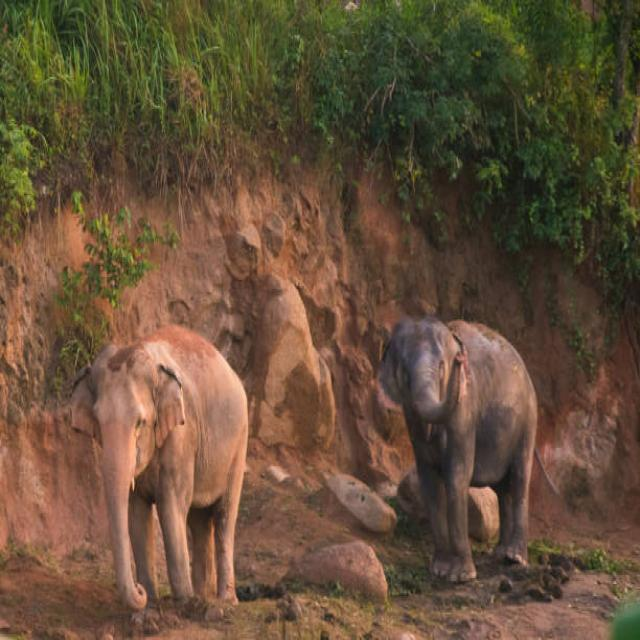Elephant: (63, 322, 253, 620), (377, 307, 540, 598)
